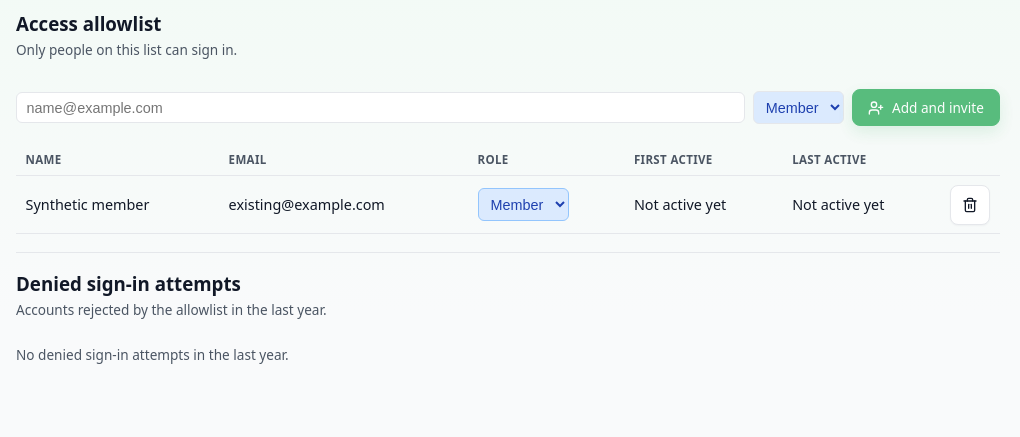
Test case: keeps a newer invitation draft when an earlier access request succeeds
expect the button named "Remove existing@example.com" is shown: met, box [950,185,990,225]
In the field with placeholder "name@example.com": point(380, 108) [16,92,745,123], type "a@example.com"
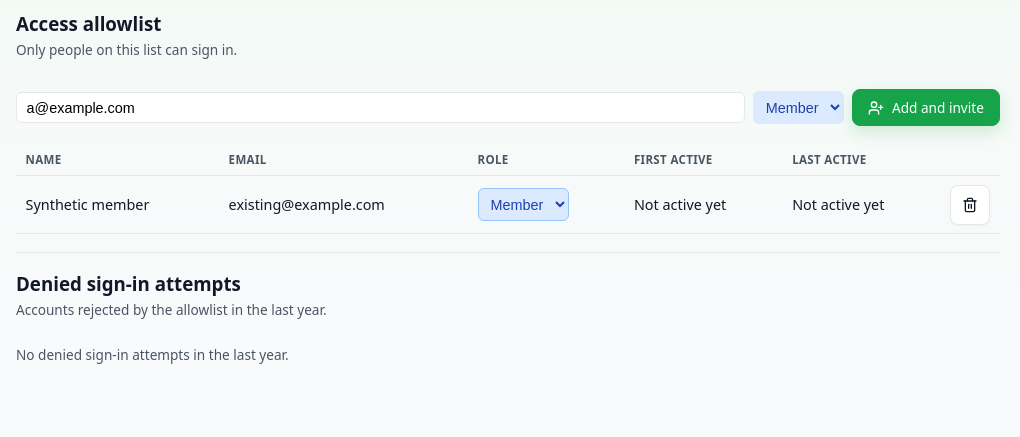
Click the button "Add and invite": point(926, 108) [852,89,1000,126]
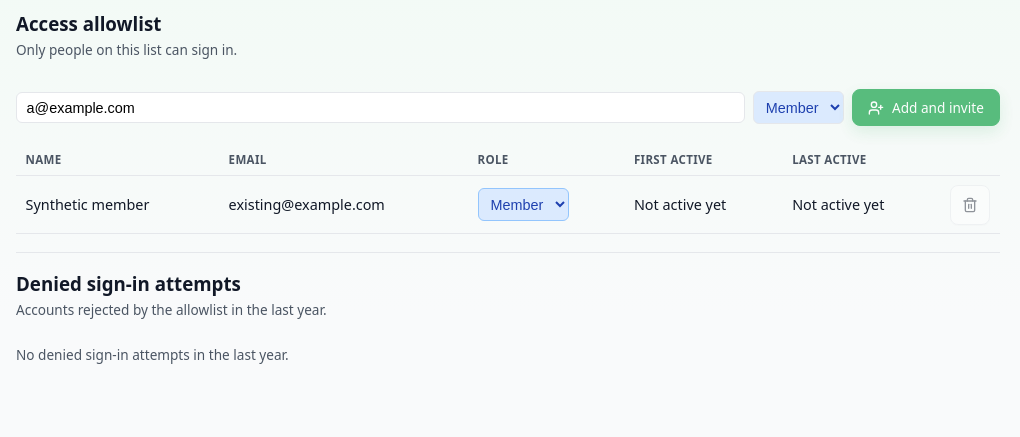
Replace the text in the field with placeholder "name@example.com" with "b@example.com": point(380, 108) [16,92,745,123]
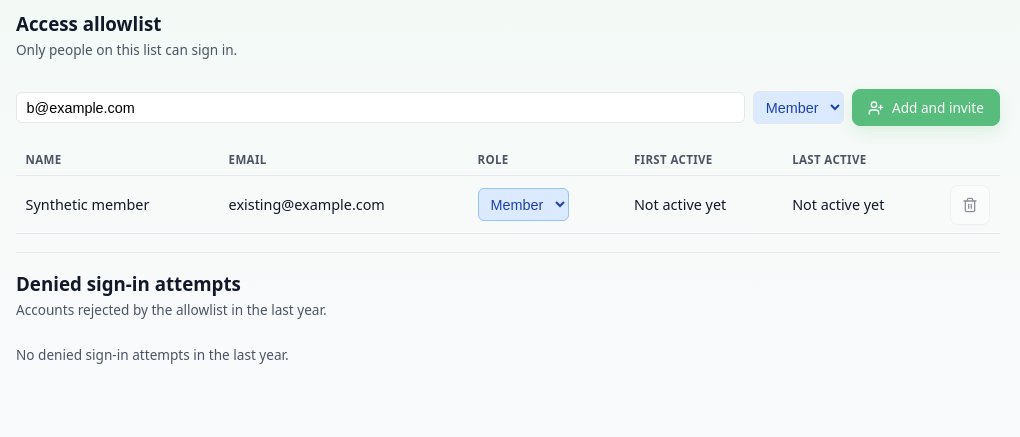
Select "Admin" in the 1st dropdown: point(798, 108) [753,91,844,124]
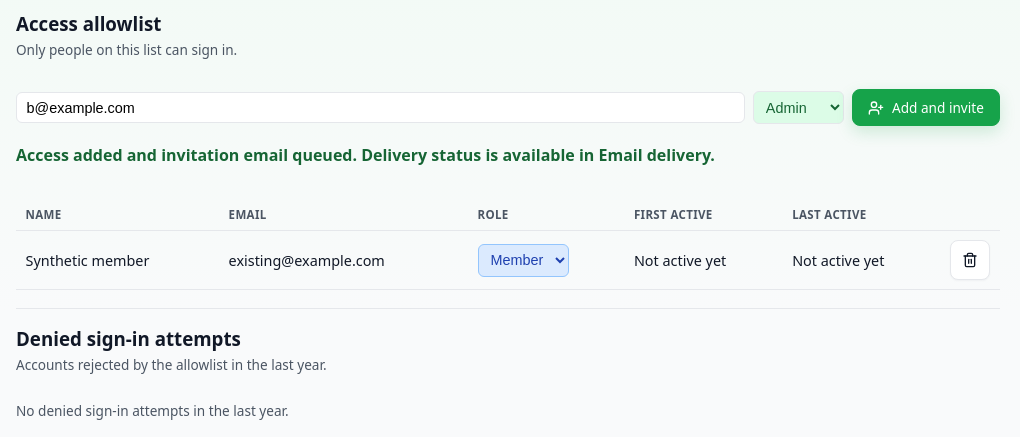
expect the button "Add and invite" is enabled: met, box [852,89,1000,126]
